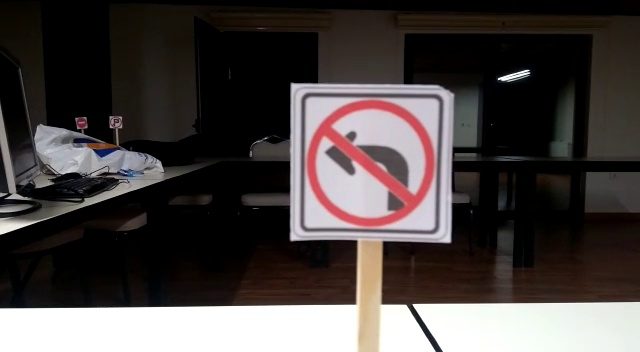sola_donulmez: (290, 89, 452, 236)
